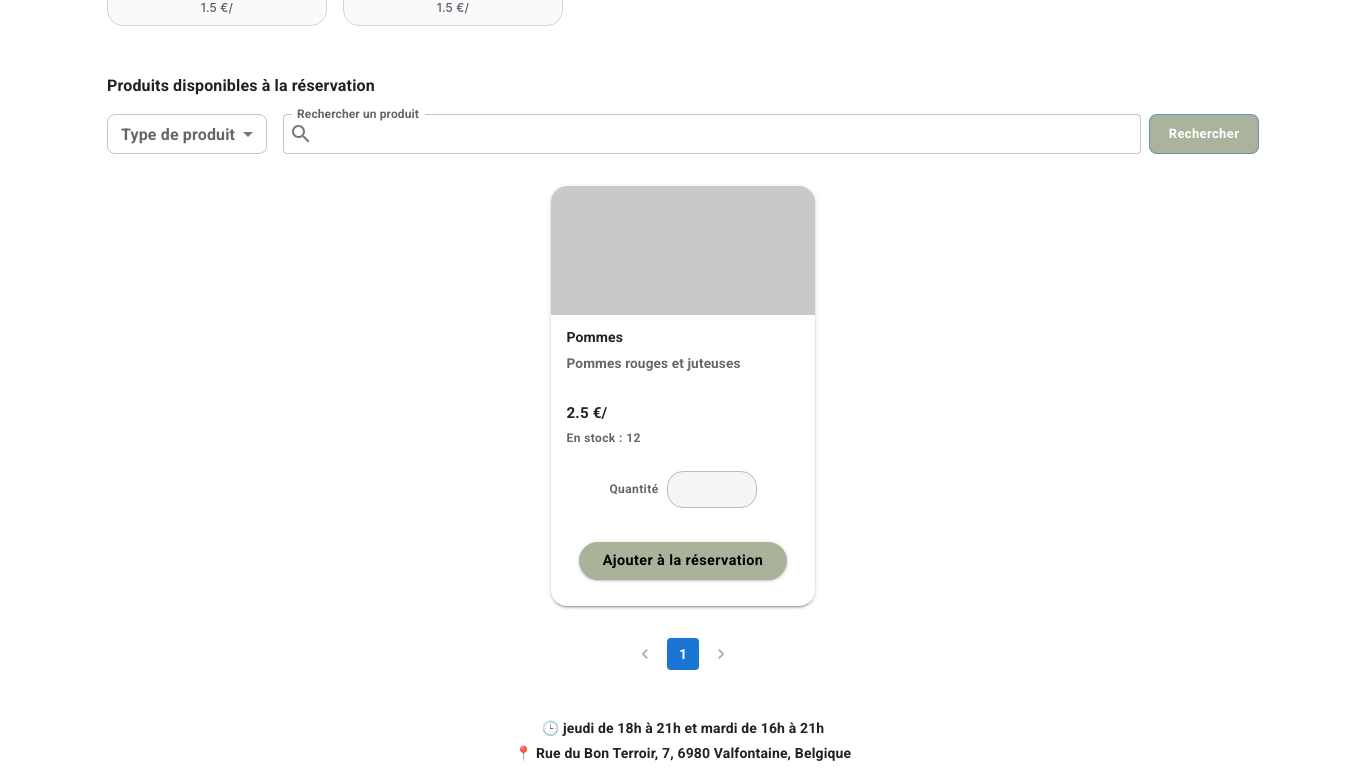
Test: HomePage › closes confirmation dialog on cancel
(page scrolled)
Click the button "Ajouter à la réservation" at (683, 561), box [579, 542, 787, 579]
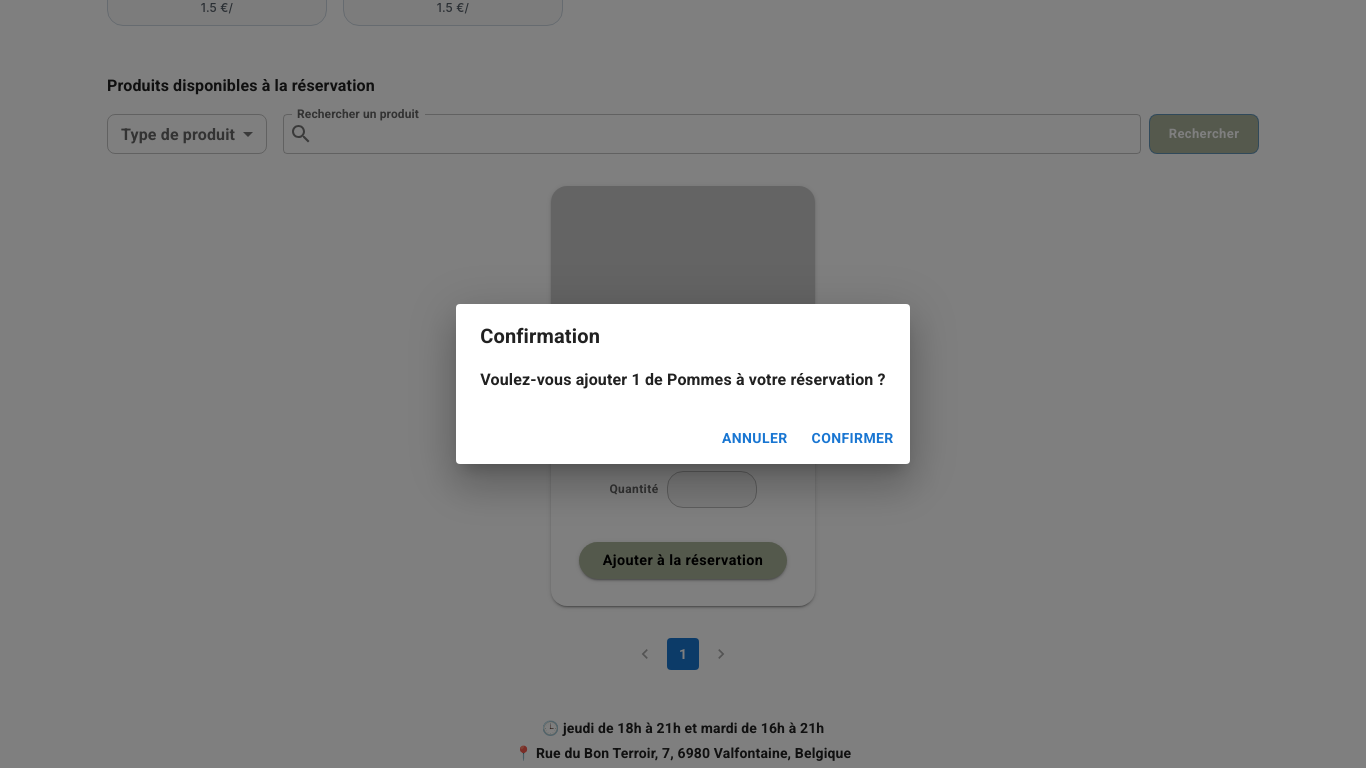
Click the button "Annuler" at (755, 438), box [714, 420, 796, 456]
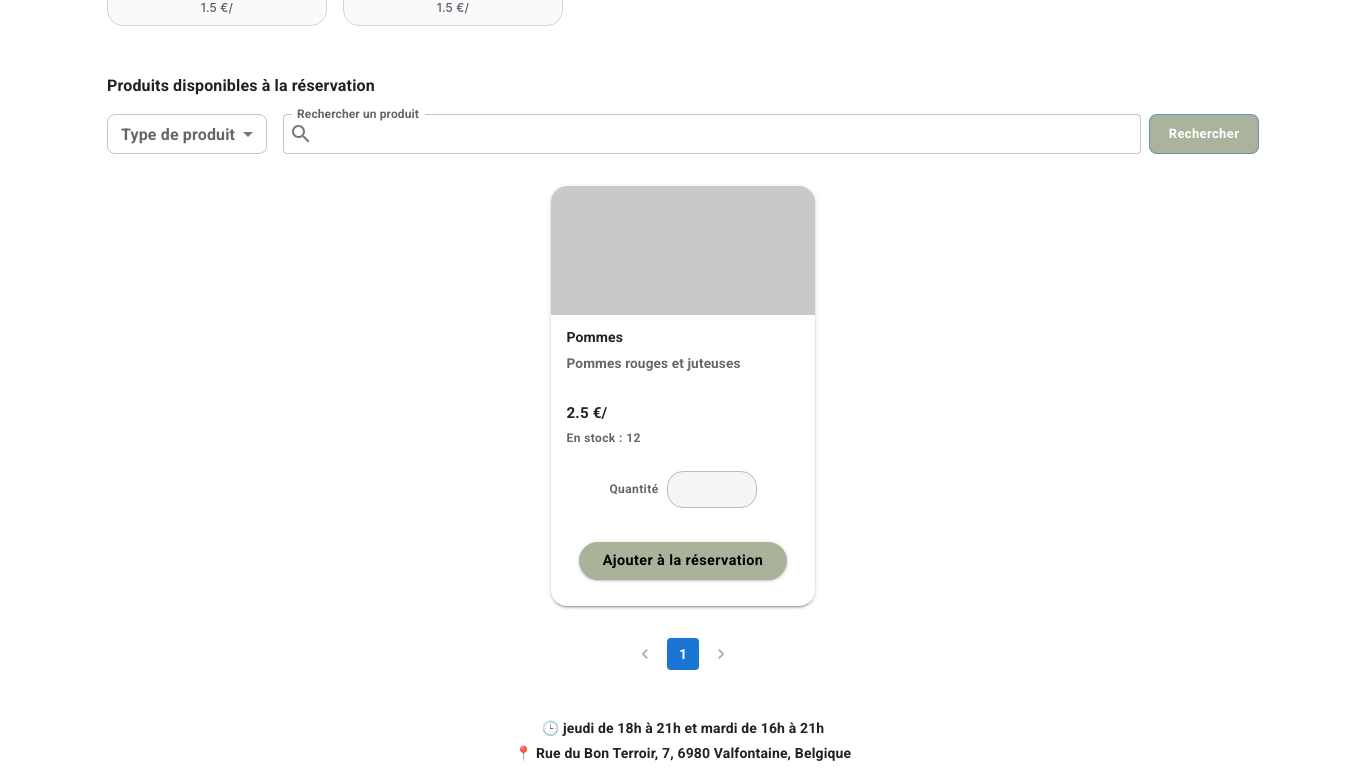
Check: the text "Voulez-vous ajouter" is gone
